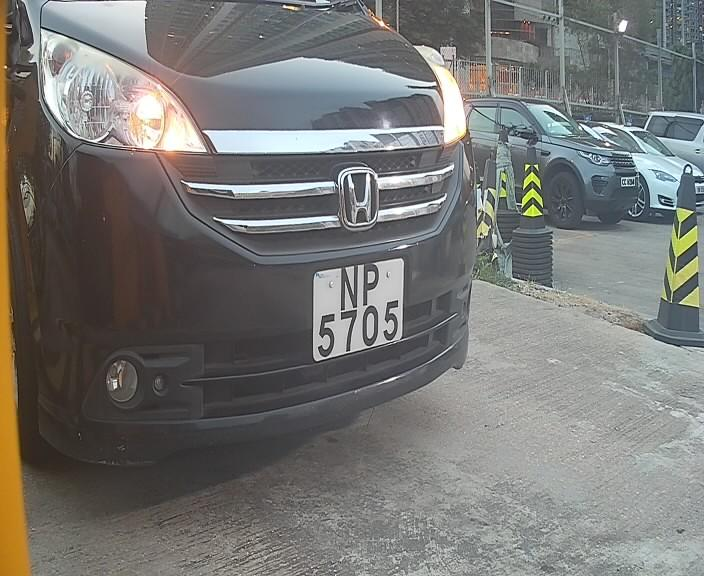License Plate: (305, 247, 412, 373)
